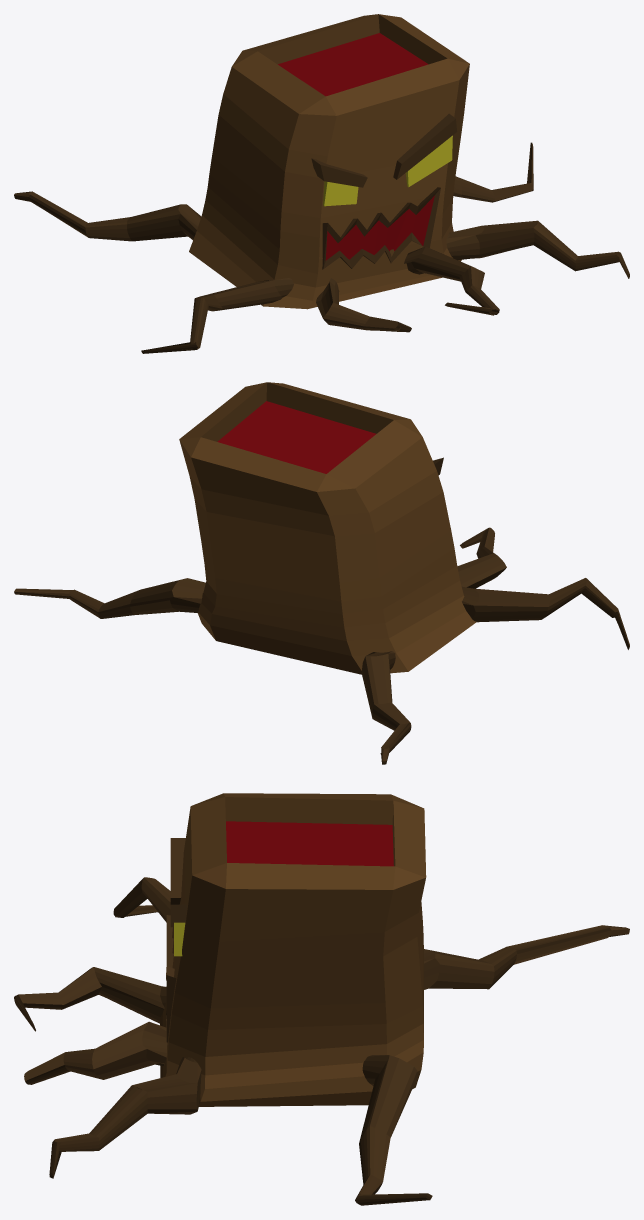
File: Evil_Stump.fbx
The picture shows the model from 3 angles, top to bottom: view 1: azimuth 30°, elevation 25°; view 2: azimuth 150°, elevation 25°; view 3: azimuth 270°, elevation 25°; orthographic projection. The views are drawn at different scales.
Parts seen in each view (by area): view 1: Trunk, Mouth, Root, Root.002, Root.003, Root.005, Root.004, Eyebrow.001, Root.001, Eye, Eyebrow, Eye.001; view 2: Trunk, Root.003, Root.001, Root.002, Root.004; view 3: Trunk, Root.001, Root, Root.002, Root.005, Root.004, Root.003, Eyebrow, Mouth.
Part boxes in pixels (<box>): Trunk: <box>189,14,469,309</box>; Mouth: <box>322,187,440,269</box>; Root: <box>446,220,629,278</box>; Root.002: <box>14,191,201,241</box>; Root.003: <box>141,278,293,353</box>; Root.005: <box>404,246,499,315</box>; Root.004: <box>316,278,411,332</box>; Eyebrow.001: <box>393,113,457,179</box>; Root.001: <box>453,142,533,202</box>; Eye: <box>405,135,452,187</box>; Eyebrow: <box>311,158,367,187</box>; Eye.001: <box>323,181,358,206</box>; Trunk: <box>179,382,476,674</box>; Root.003: <box>462,578,629,649</box>; Root.001: <box>14,578,205,618</box>; Root.002: <box>361,651,411,764</box>; Root.004: <box>457,527,506,588</box>; Trunk: <box>160,793,426,1106</box>; Root.001: <box>355,1055,432,1205</box>; Root: <box>49,1057,201,1178</box>; Root.002: <box>424,925,629,989</box>; Root.005: <box>24,1021,167,1084</box>; Root.004: <box>14,967,166,1031</box>; Root.003: <box>113,877,170,922</box>; Eyebrow: <box>170,838,185,904</box>; Mouth: <box>166,915,176,1042</box>.
Size of the model in its own units: 417 by 171 by 358.
